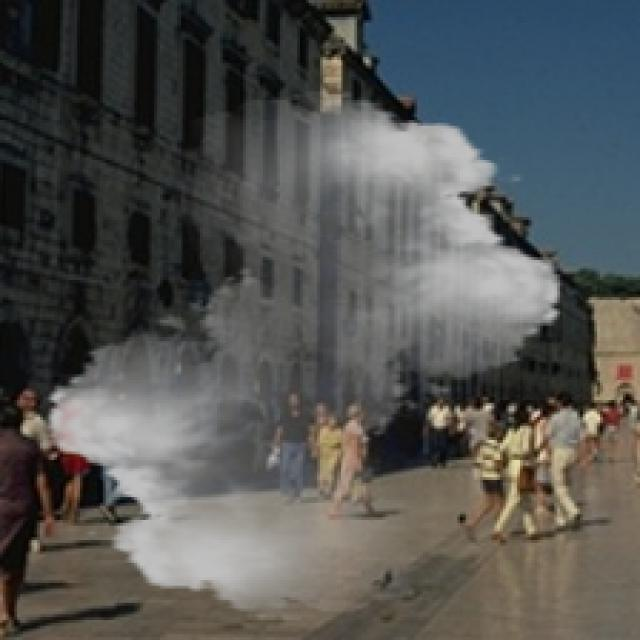Smoke: (28, 91, 580, 620)
